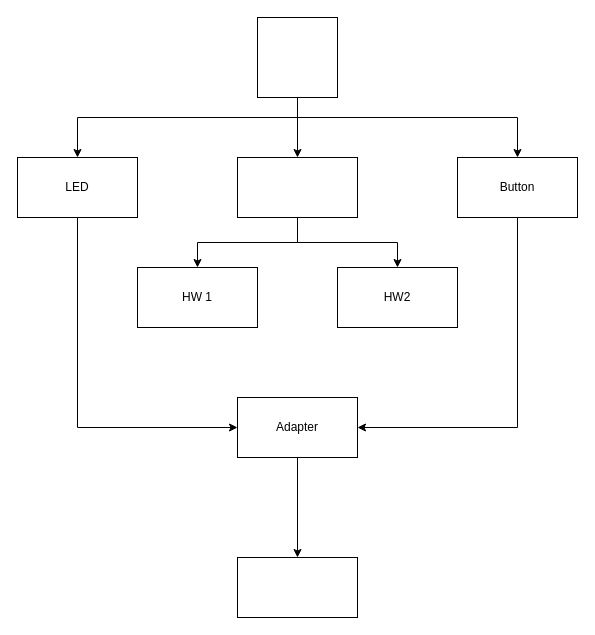
Image size: 595x635. Some labels were removed from this diagram. Each missing label, with the centre of its shape:
App: (297,57)
HAL: (297,587)
HW map: (297,187)
